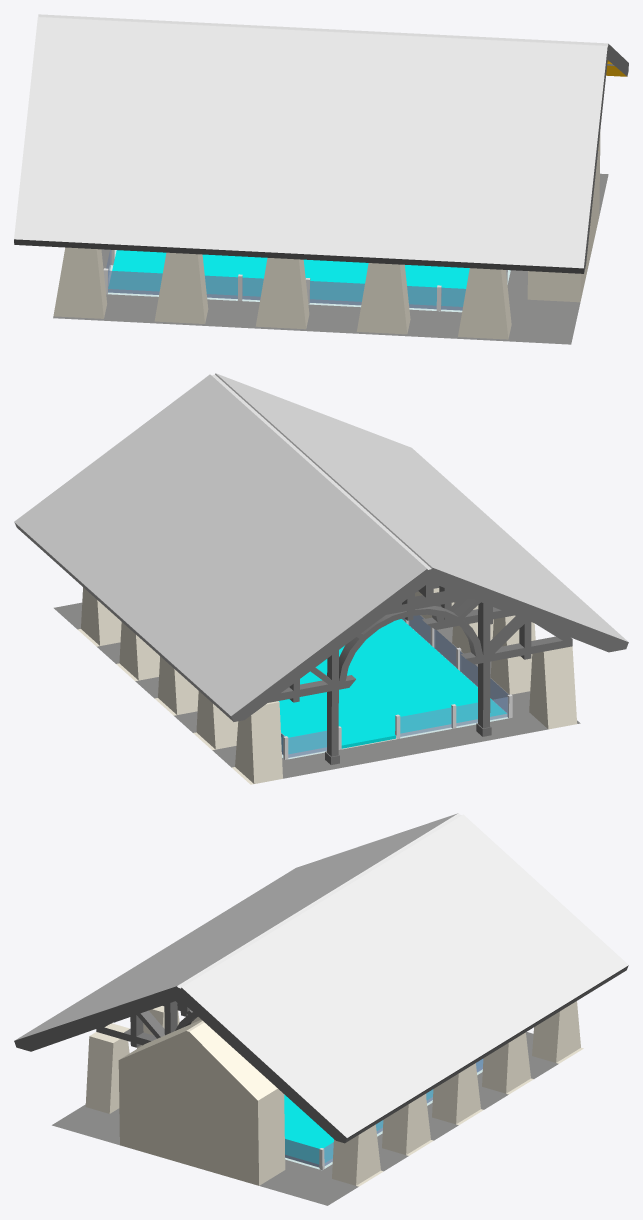
File: IceSkating.gltf
The picture shows the model from 3 angles, top to bottom: view 1: azimuth 30°, elevation 25°; view 2: azimuth 150°, elevation 25°; view 3: azimuth 270°, elevation 25°; orthographic projection. The views are drawn at different scales.
Parts seen in each view (by area): view 1: Mesh23 Component_1_1 Model, Mesh4 Group1 Component_1_1 Model, Mesh29 Component_1_1 Model; view 2: Mesh23 Component_1_1 Model, Mesh4 Group1 Component_1_1 Model; view 3: Mesh23 Component_1_1 Model, Mesh15 Group2 Component_1_1 Model.
Part boxes in pixels (left/top/right/bottom): Mesh23 Component_1_1 Model: left=14, top=14, right=628, bottom=344; Mesh4 Group1 Component_1_1 Model: left=103, top=268, right=364, bottom=305; Mesh29 Component_1_1 Model: left=407, top=286, right=465, bottom=310; Mesh23 Component_1_1 Model: left=14, top=373, right=628, bottom=784; Mesh4 Group1 Component_1_1 Model: left=408, top=615, right=512, bottom=718; Mesh23 Component_1_1 Model: left=14, top=813, right=628, bottom=1205; Mesh15 Group2 Component_1_1 Model: left=285, top=1139, right=319, bottom=1167.
Size of the model in its own units: 2840 by 965 by 2757.
